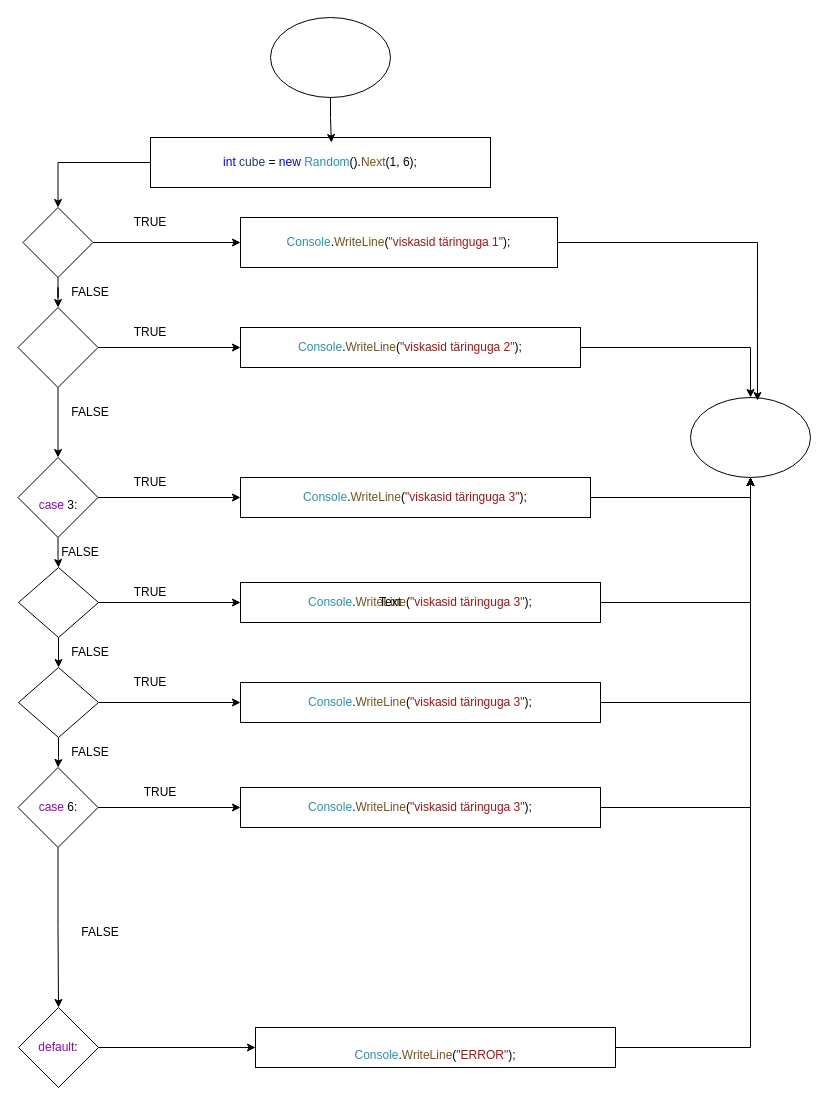
The diagram is 828 pixels wide and 1105 high, and some of its shapes have lost their labels. The centre of each missing label's shape, as x and y in pixels:
case 1:: [57,242]
case 2:: [57,347]
case 4:: [58,602]
case 5:: [58,702]
START: [330,57]
STOP: [750,437]
